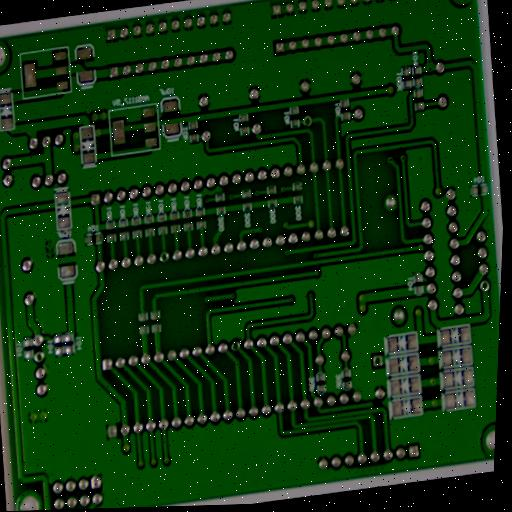missing_hole: (478, 278, 492, 295), (32, 350, 46, 365), (229, 340, 242, 354), (301, 113, 313, 128), (372, 355, 383, 368)
